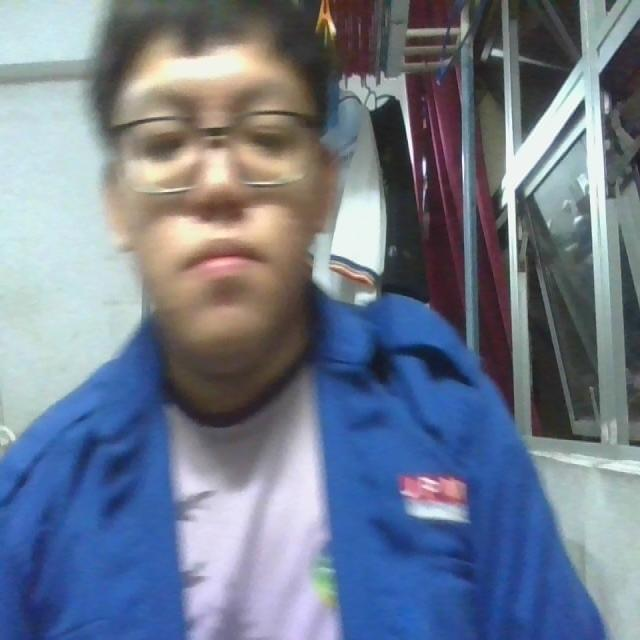person_with_labcoat: (0, 0, 609, 639)
